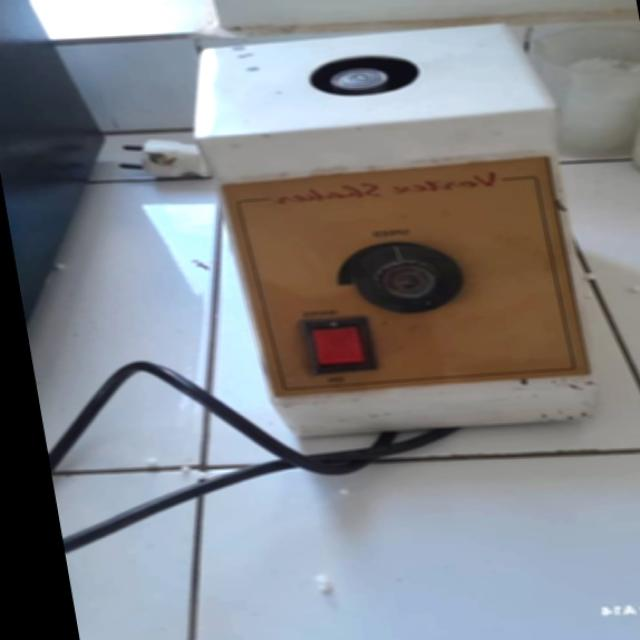Vortex: (173, 16, 613, 465)
